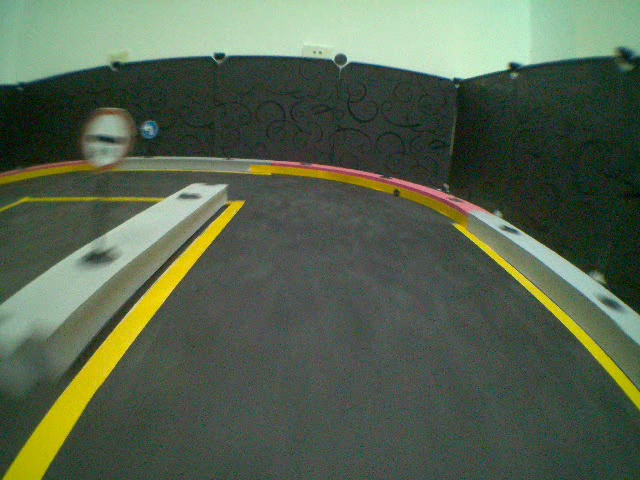Check: (79, 107, 135, 165)
turn: (138, 119, 159, 139)
